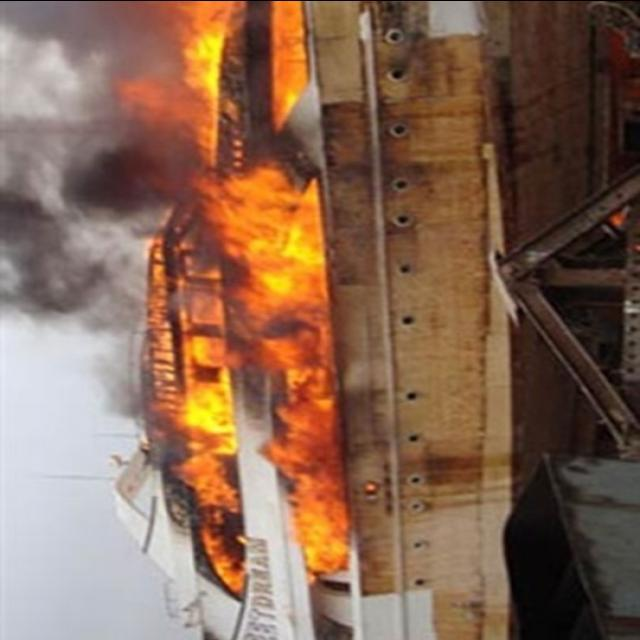Fire: (140, 0, 351, 593)
